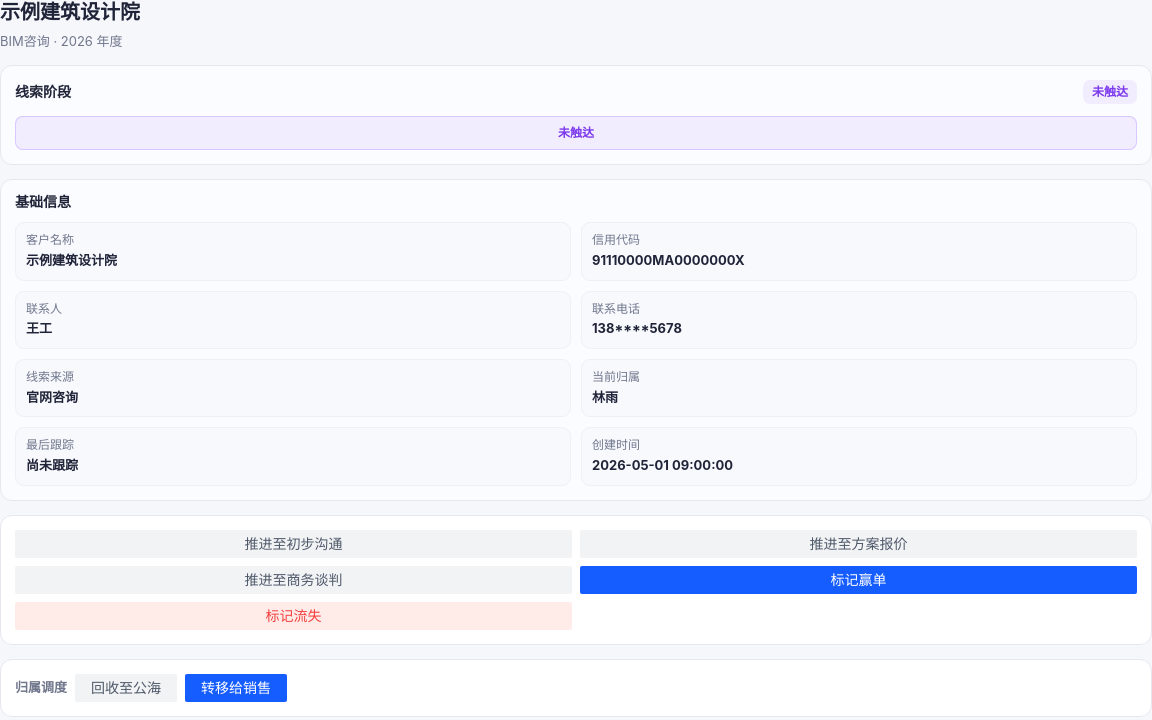
Test: Admin 归属操作区（spec：分配/回收/转移） › 转移候选排除当前归属
Click the button with class "transfer-open": (236, 688) [185,674,287,702]
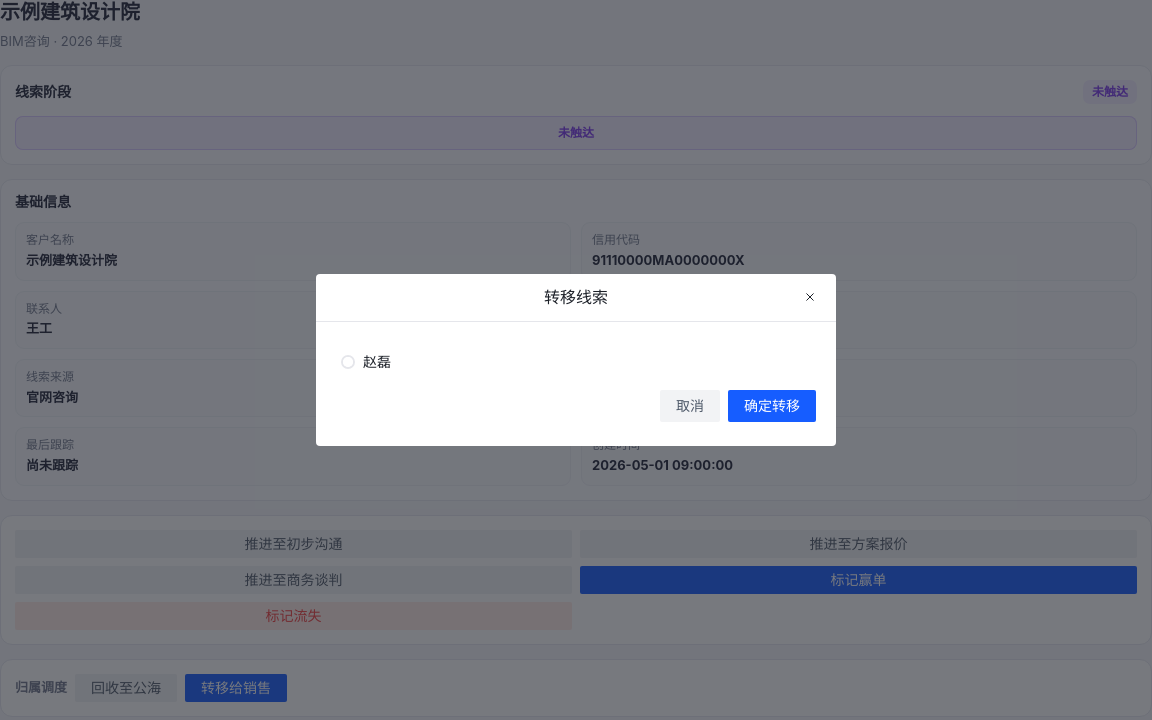
Expected: the element with class "transfer-target" does not show "林雨"
Now the number of radio buttons with class "arco-radio" is 1, box [341,353,391,370]
Now the element with class "transfer-target" reads "赵磊", box [363,353,391,370]
